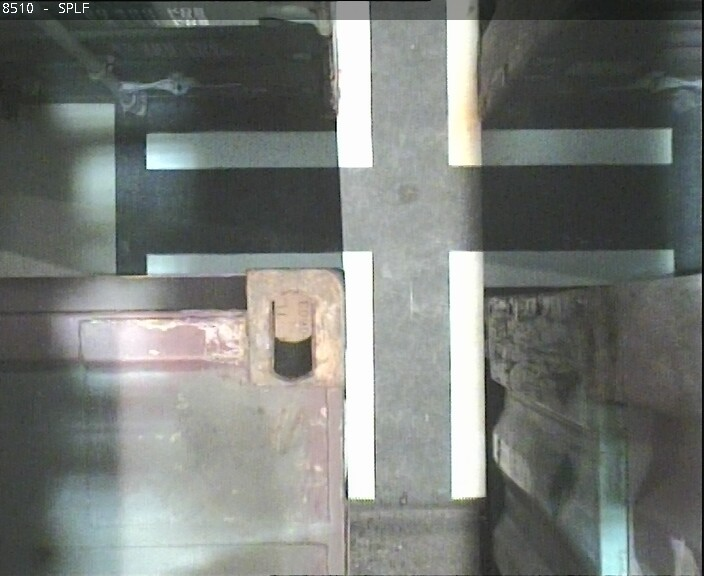groundmarker_1: (147, 247, 679, 499), (140, 1, 672, 168)
